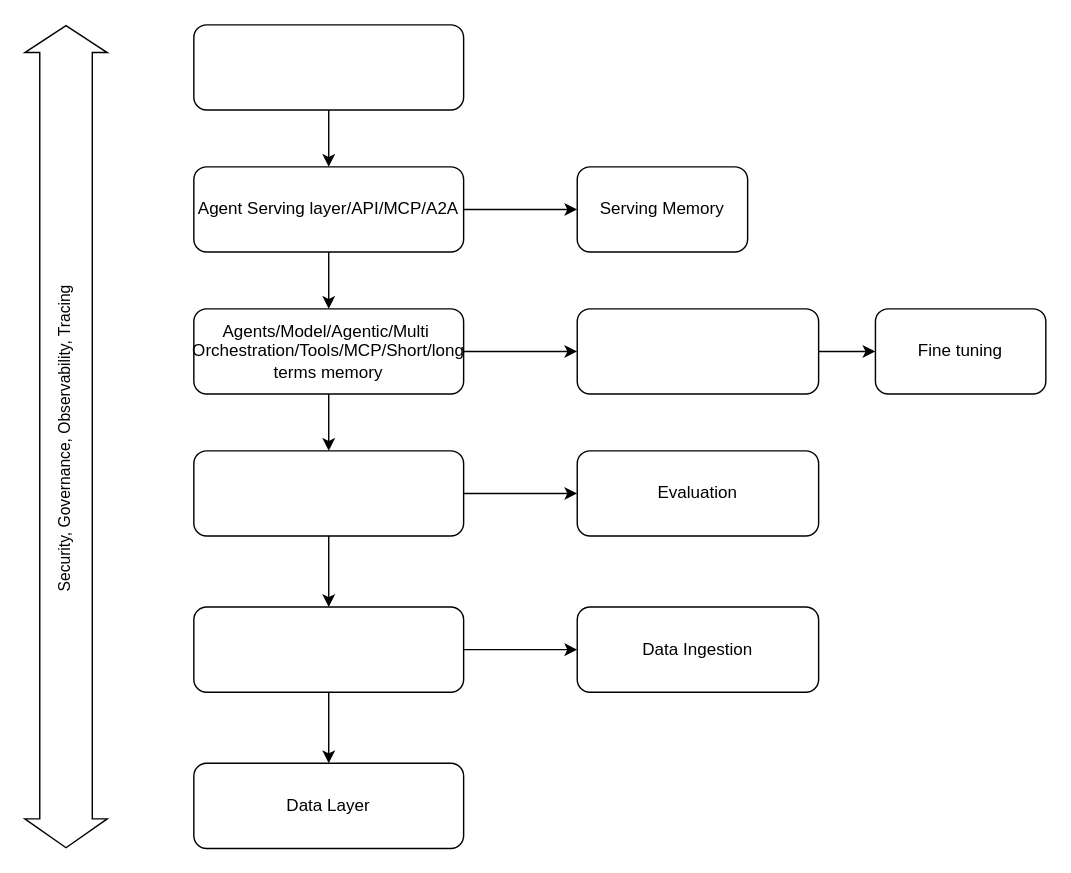
Some shapes in this 1071 by 873 pixel diagram are drawn without their labels. The centre of each missing label's shape, as x and y in pixels:
Agent/Model - Eval, Security, Conversation, Agent context: the point at 697,350
Grounding - RAG- Chunking, SQL: the point at 328,649
Retrieval/Agentic Retrieval/Semantic, Hybrid, Vector: the point at 328,492
User Interface, Chat, Mobile, UI, Dashboard, Voice: the point at 328,66
